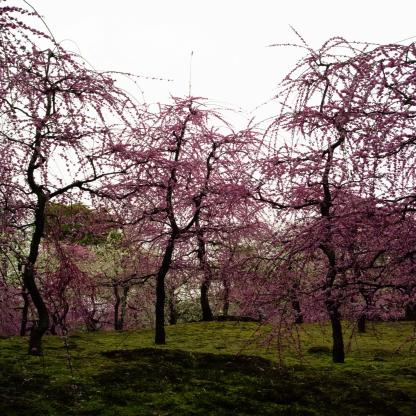Ume: (241, 23, 416, 371), (0, 2, 155, 339), (124, 50, 280, 336)
